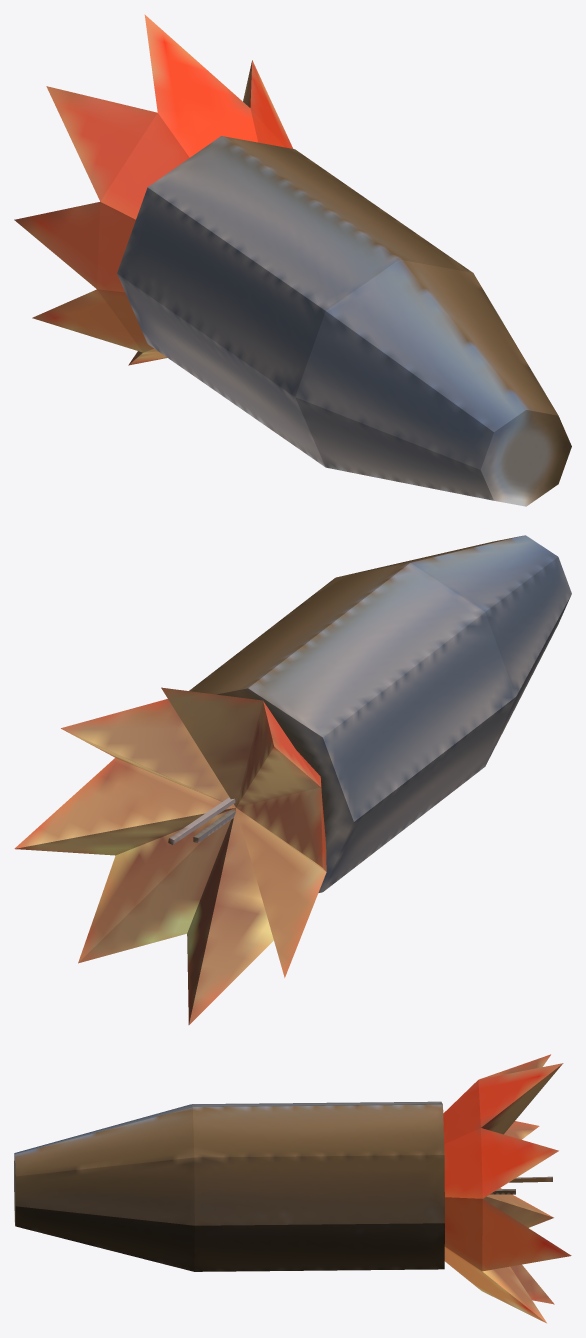
3 views of the same model, one above another, from view 1: azimuth 30°, elevation 25°; view 2: azimuth 150°, elevation 25°; view 3: azimuth 270°, elevation 25° (orthographic). The views are drawn at different scales.
Parts seen in each view (by area): view 1: Bala_Cylinder.003, Fogonazo_Cylinder.004; view 2: Bala_Cylinder.003, Fogonazo_Cylinder.004, Estela_1_Cube.006; view 3: Bala_Cylinder.003, Fogonazo_Cylinder.004.
Boxes of the visible parts, x1,y1,x2,y2 form: Bala_Cylinder.003: [117, 136, 571, 506]; Fogonazo_Cylinder.004: [14, 14, 293, 365]; Bala_Cylinder.003: [189, 535, 571, 892]; Fogonazo_Cylinder.004: [14, 687, 326, 1024]; Estela_1_Cube.006: [168, 797, 235, 844]; Bala_Cylinder.003: [14, 1101, 444, 1271]; Fogonazo_Cylinder.004: [443, 1054, 571, 1323].
Size of the model in its own units: 0.3842 by 0.4324 by 0.8769.
